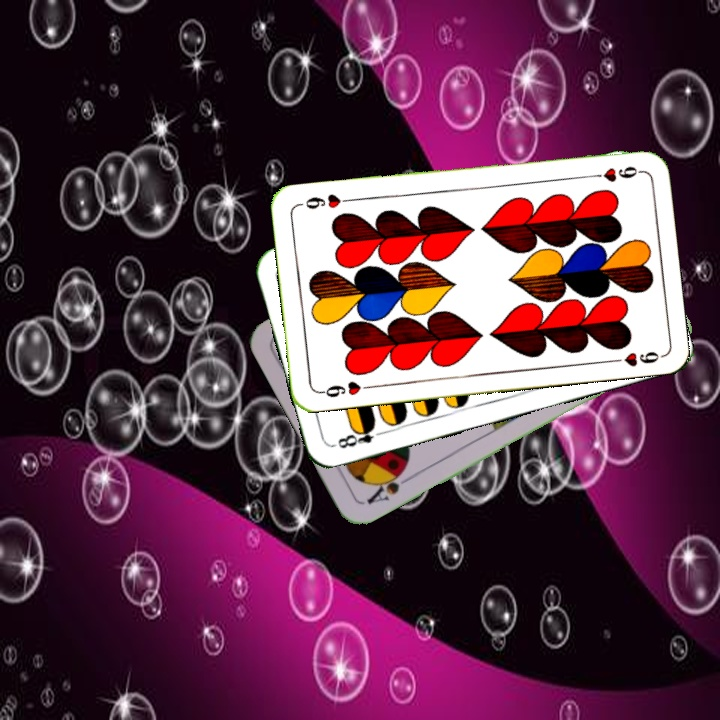E8: (330, 420, 389, 451)
H9: (315, 377, 375, 400), (584, 162, 643, 184)
SA: (362, 463, 410, 507)
